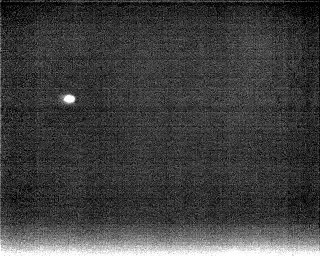AIRPLANE: (61, 92, 78, 107)
